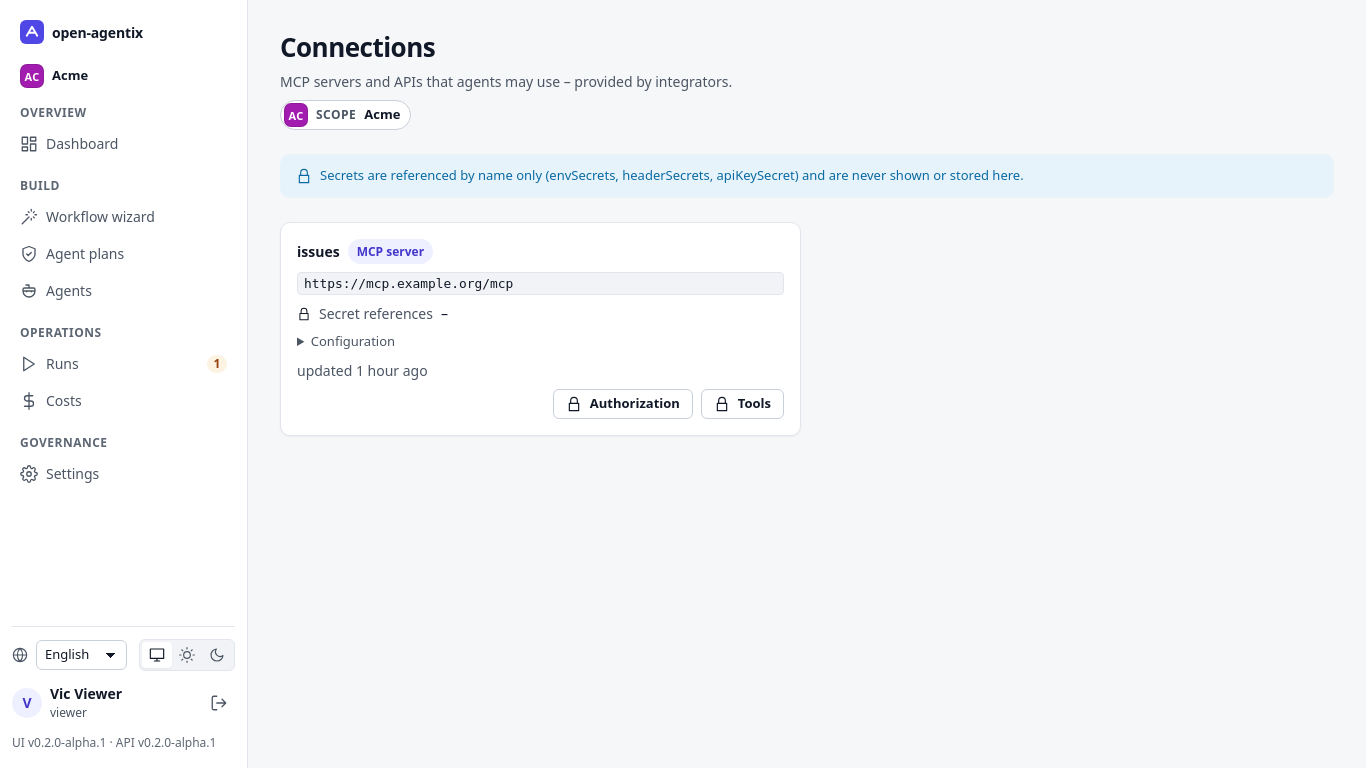
Scenario: Authorization of an OAuth connection › a viewer sees the state but no way to change it
The width and height of the screenshot is (1366, 768).
Click the button "Authorization": click(623, 404) [553,389,693,419]
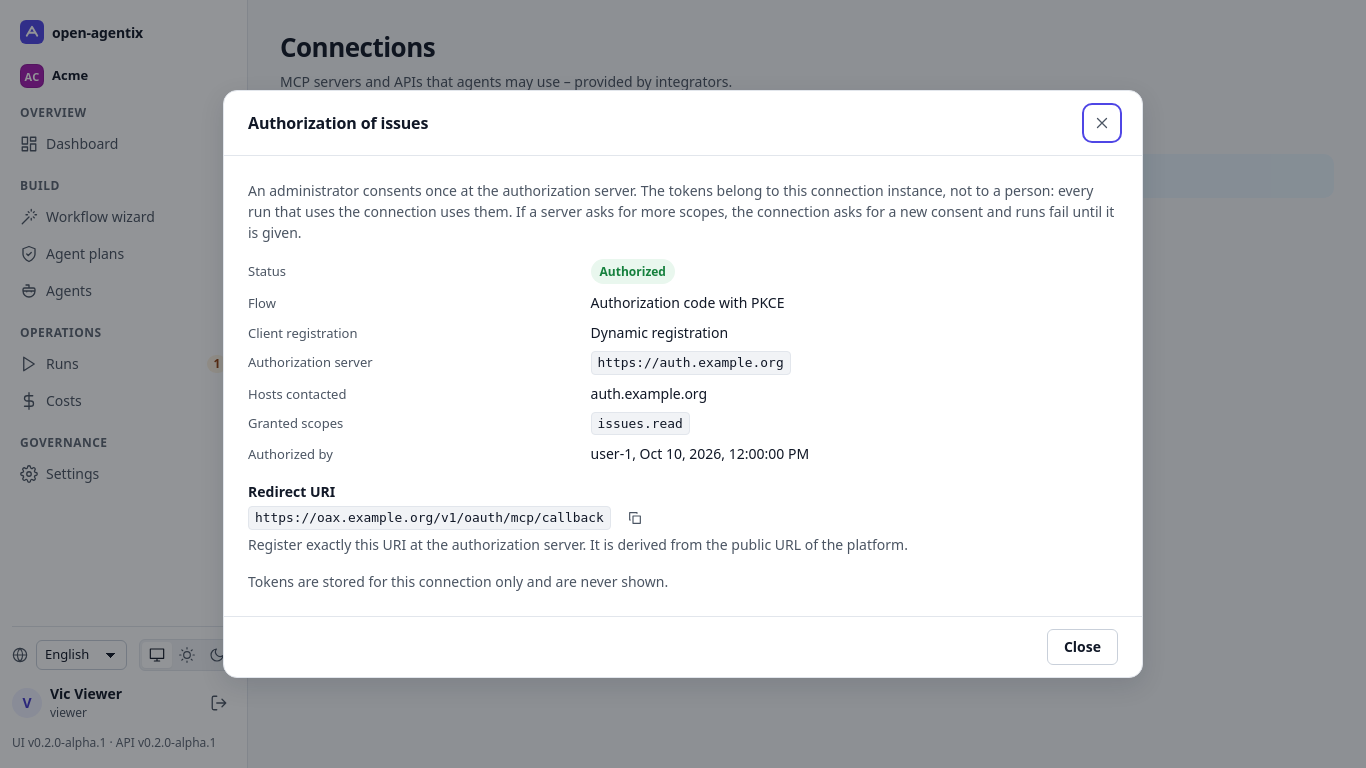
Expected: the text "Authorized" is shown, [591,259,675,284]
